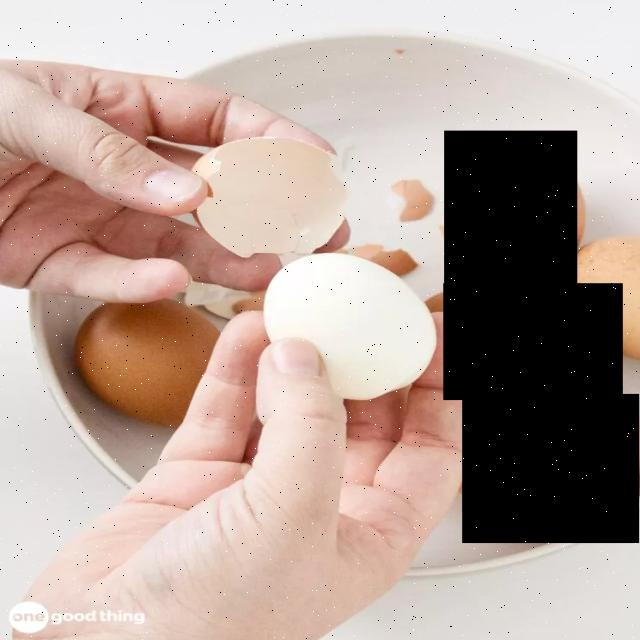Egg: (462, 395, 640, 543), (444, 284, 623, 401), (445, 131, 578, 285)
